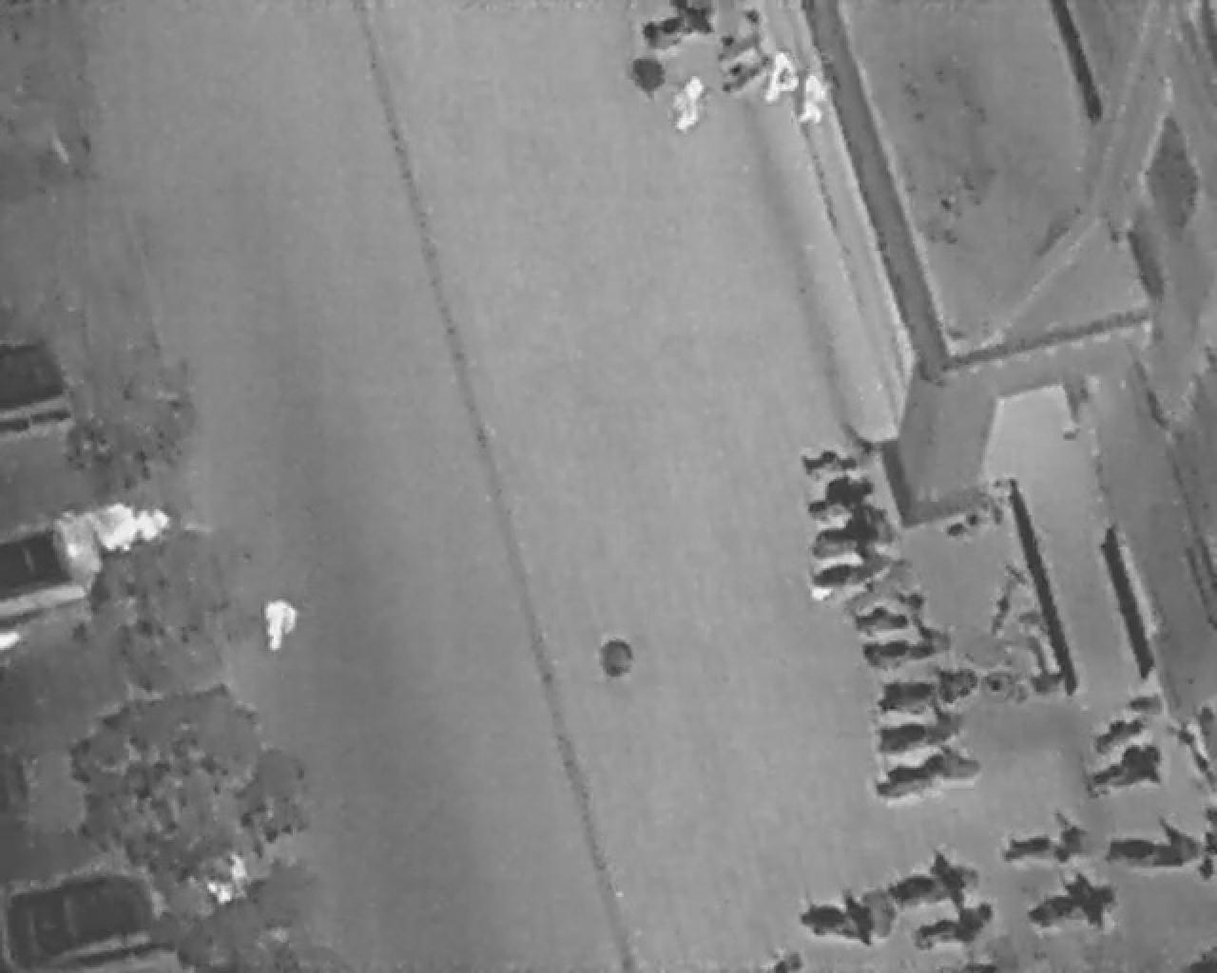person: (758, 48, 805, 109), (798, 67, 834, 130), (261, 596, 299, 651), (674, 75, 706, 132)
